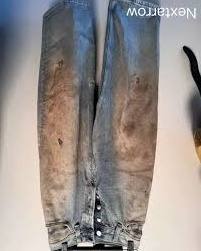earth: (45, 74, 72, 186), (121, 95, 155, 172)
